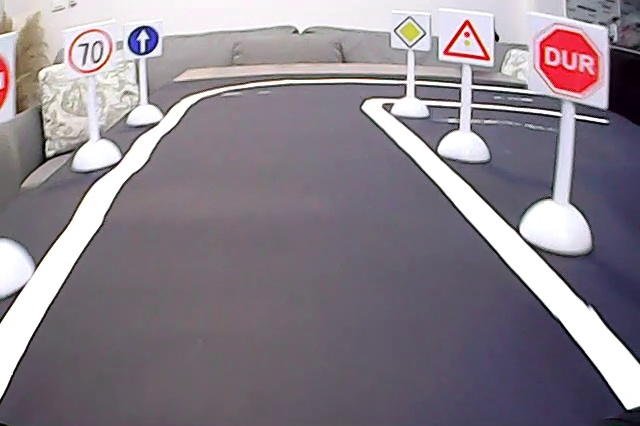red light: (445, 14, 489, 64)
speed limit 70: (67, 28, 121, 76)
stop sign: (530, 14, 609, 100)
